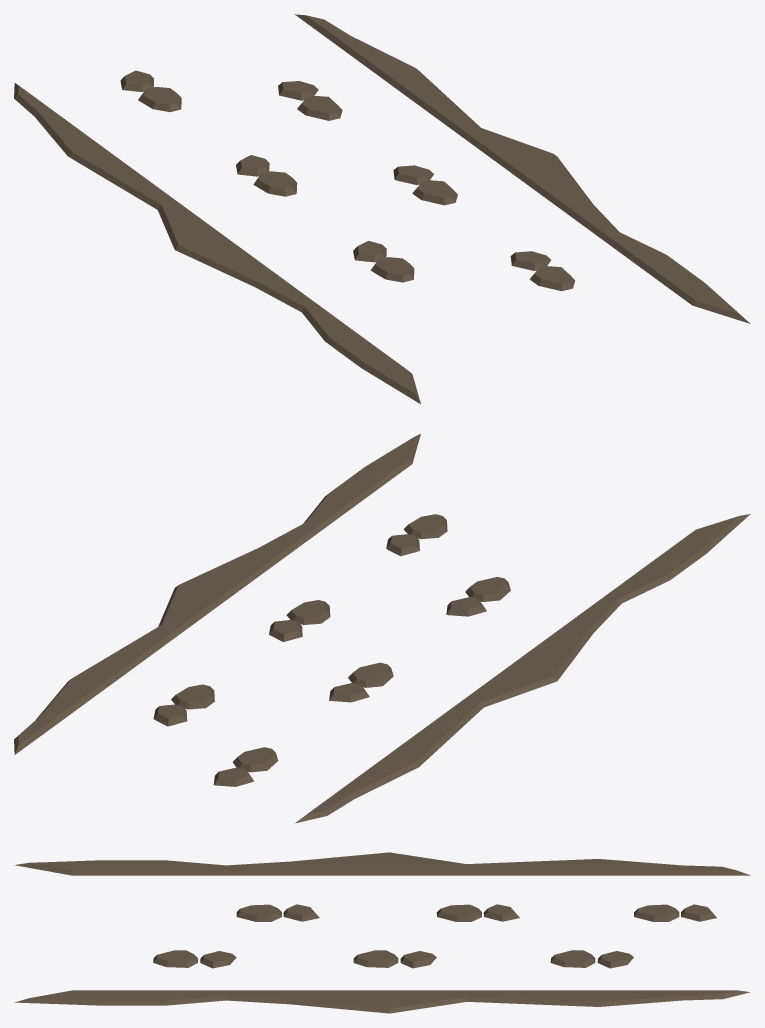
File: 09_prop_tracks_and_steps.fbx
3 views of the same model, one above another, from view 1: azimuth 30°, elevation 25°; view 2: azimuth 150°, elevation 25°; view 3: azimuth 270°, elevation 25° (orthographic). The views are drawn at different scales.
Visible parts, largest first — view 1: B1_footsteps_01; view 2: B1_footsteps_01; view 3: B1_footsteps_01.
Boxes of the visible parts, x1,y1,x2,y2 form: B1_footsteps_01: (14,14,750,404); B1_footsteps_01: (14,433,750,823); B1_footsteps_01: (14,852,750,1013).
Size of the model in its own units: 612 by 8.02 by 1196.
